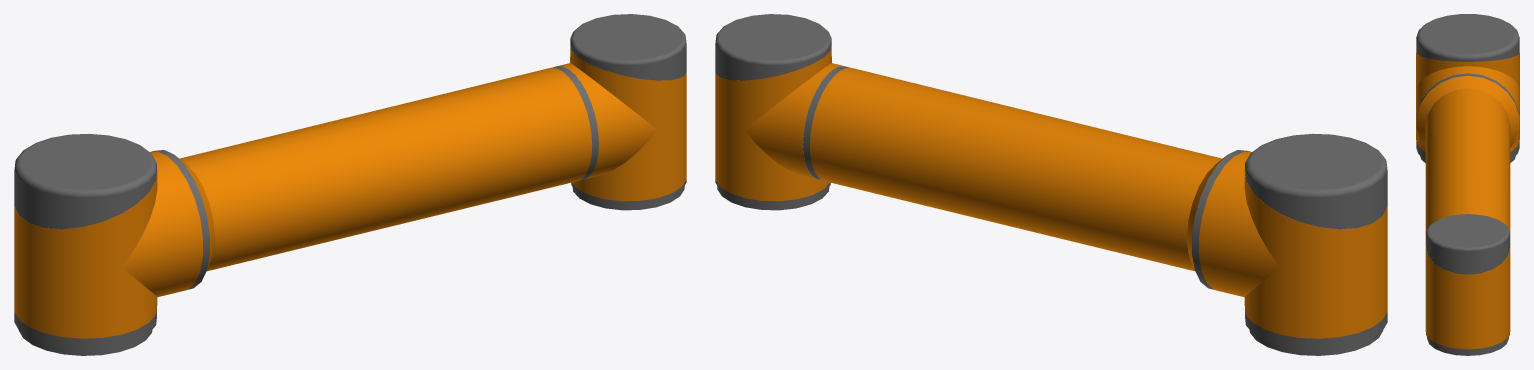
3 renders of one model, left to right at view 1: azimuth 30°, elevation 25°; view 2: azimuth 150°, elevation 25°; view 3: azimuth 270°, elevation 25°, orthographic. The views are drawn at different scales.
Parts seen in each view (by area): view 1: NONE; view 2: NONE; view 3: NONE.
Boxes of the visible parts, x1,y1,x2,y2 form: NONE: (14, 14, 686, 355); NONE: (715, 14, 1387, 355); NONE: (1416, 14, 1519, 355).
Size of the model in its own units: 0.9691 by 0.184 by 0.234.
